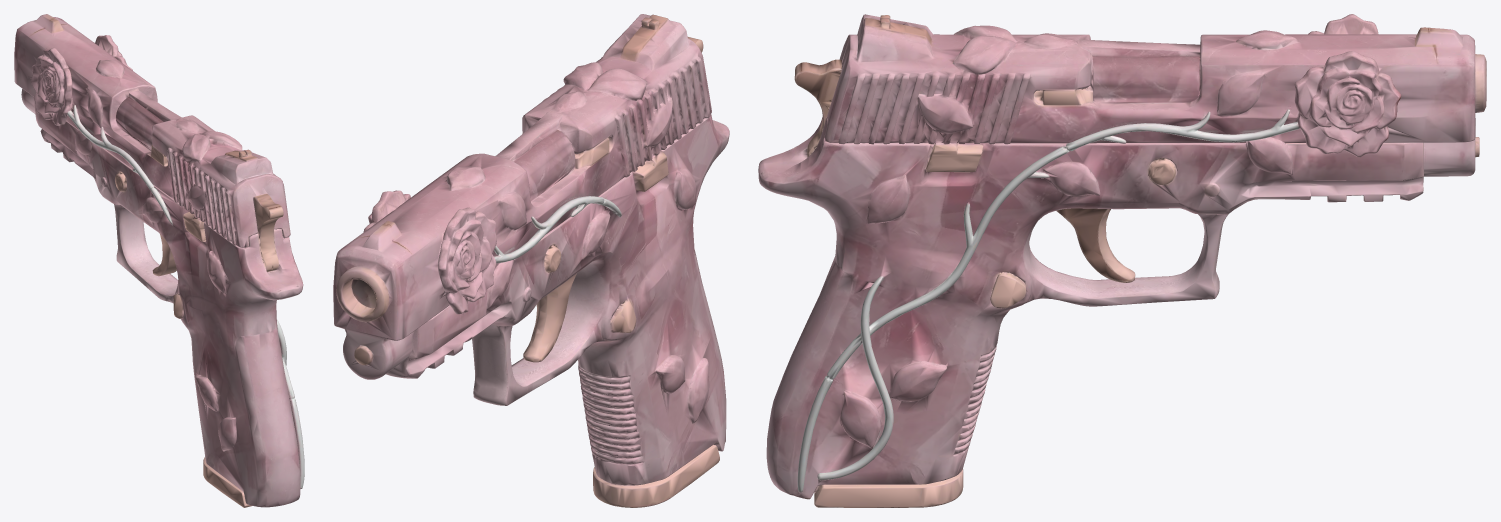
File: p250_gul.glb
3 renders of one model, left to right at view 1: azimuth 30°, elevation 25°; view 2: azimuth 150°, elevation 25°; view 3: azimuth 270°, elevation 25°, orthographic. The views are drawn at different scales.
Visible parts, largest first — view 1: govde; view 2: govde; view 3: govde.
Boxes of the visible parts, bbox=[...] form: govde: bbox=[14, 14, 304, 507]; govde: bbox=[333, 14, 729, 507]; govde: bbox=[758, 14, 1486, 507].
Size of the model in its own units: 0.0326 by 0.1417 by 0.198.
1 material, 1 textured.
